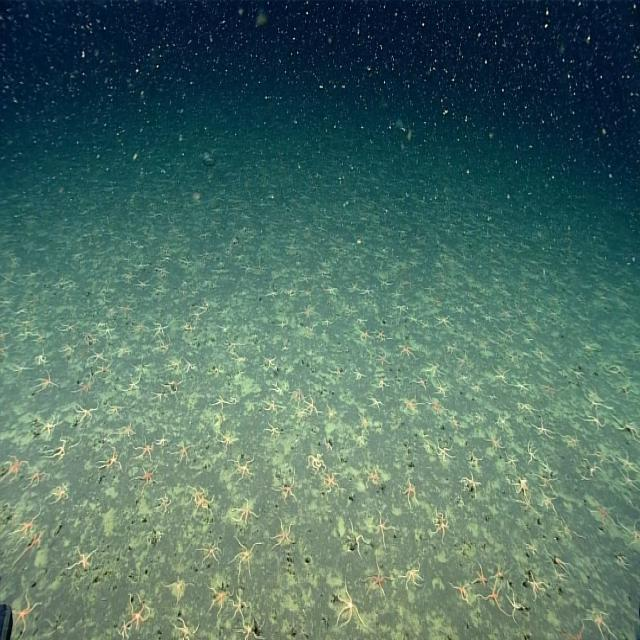brittle-stars: (229, 536, 260, 582), (10, 595, 42, 637), (335, 580, 360, 628), (68, 545, 98, 578), (479, 590, 511, 620), (586, 610, 617, 640), (232, 497, 259, 531), (363, 562, 390, 596), (128, 592, 150, 633), (367, 515, 393, 546), (98, 446, 124, 476), (207, 585, 231, 617), (4, 455, 28, 486), (348, 520, 367, 558), (506, 590, 526, 626), (274, 518, 296, 550), (196, 544, 222, 570), (173, 615, 200, 640), (450, 580, 473, 608), (527, 573, 550, 601), (166, 580, 196, 600), (73, 403, 99, 426), (272, 481, 298, 504), (228, 458, 254, 480), (434, 438, 456, 463), (398, 568, 424, 589), (402, 476, 419, 508), (323, 472, 343, 498), (135, 438, 154, 465), (434, 510, 449, 544), (135, 467, 157, 490), (540, 490, 558, 518), (231, 594, 247, 624), (463, 472, 480, 500), (238, 623, 265, 640), (15, 515, 34, 539), (49, 484, 69, 506), (37, 374, 58, 394), (516, 474, 531, 502), (40, 416, 59, 438), (486, 431, 504, 454), (28, 465, 43, 492), (307, 454, 327, 474), (492, 365, 510, 387), (619, 452, 637, 474), (51, 438, 66, 464), (424, 359, 444, 378), (434, 313, 454, 332), (532, 422, 553, 440), (262, 398, 282, 416), (586, 410, 604, 430), (403, 395, 419, 417), (212, 393, 231, 411), (523, 538, 540, 558), (175, 443, 190, 465), (475, 563, 488, 588), (398, 342, 416, 360), (77, 376, 94, 395), (491, 566, 505, 588), (220, 431, 234, 453), (266, 422, 284, 439), (151, 322, 169, 339), (120, 423, 136, 442), (118, 617, 131, 640), (198, 495, 212, 516), (364, 470, 380, 488), (412, 372, 428, 390), (158, 493, 171, 515), (506, 451, 519, 472), (368, 397, 386, 412), (60, 342, 76, 358), (96, 363, 113, 378), (304, 398, 318, 416), (435, 380, 449, 398), (527, 442, 538, 464), (156, 432, 170, 449), (519, 401, 534, 416), (188, 485, 202, 501), (566, 433, 580, 449), (90, 349, 106, 363), (58, 322, 78, 333), (353, 367, 366, 383), (329, 366, 345, 379), (35, 352, 47, 369), (128, 377, 141, 392), (110, 404, 122, 418), (378, 378, 388, 393), (154, 390, 165, 402)
